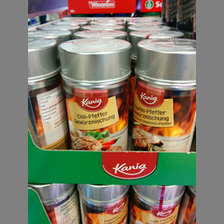spices: (58, 37, 133, 151), (133, 39, 197, 151), (28, 38, 66, 149)
